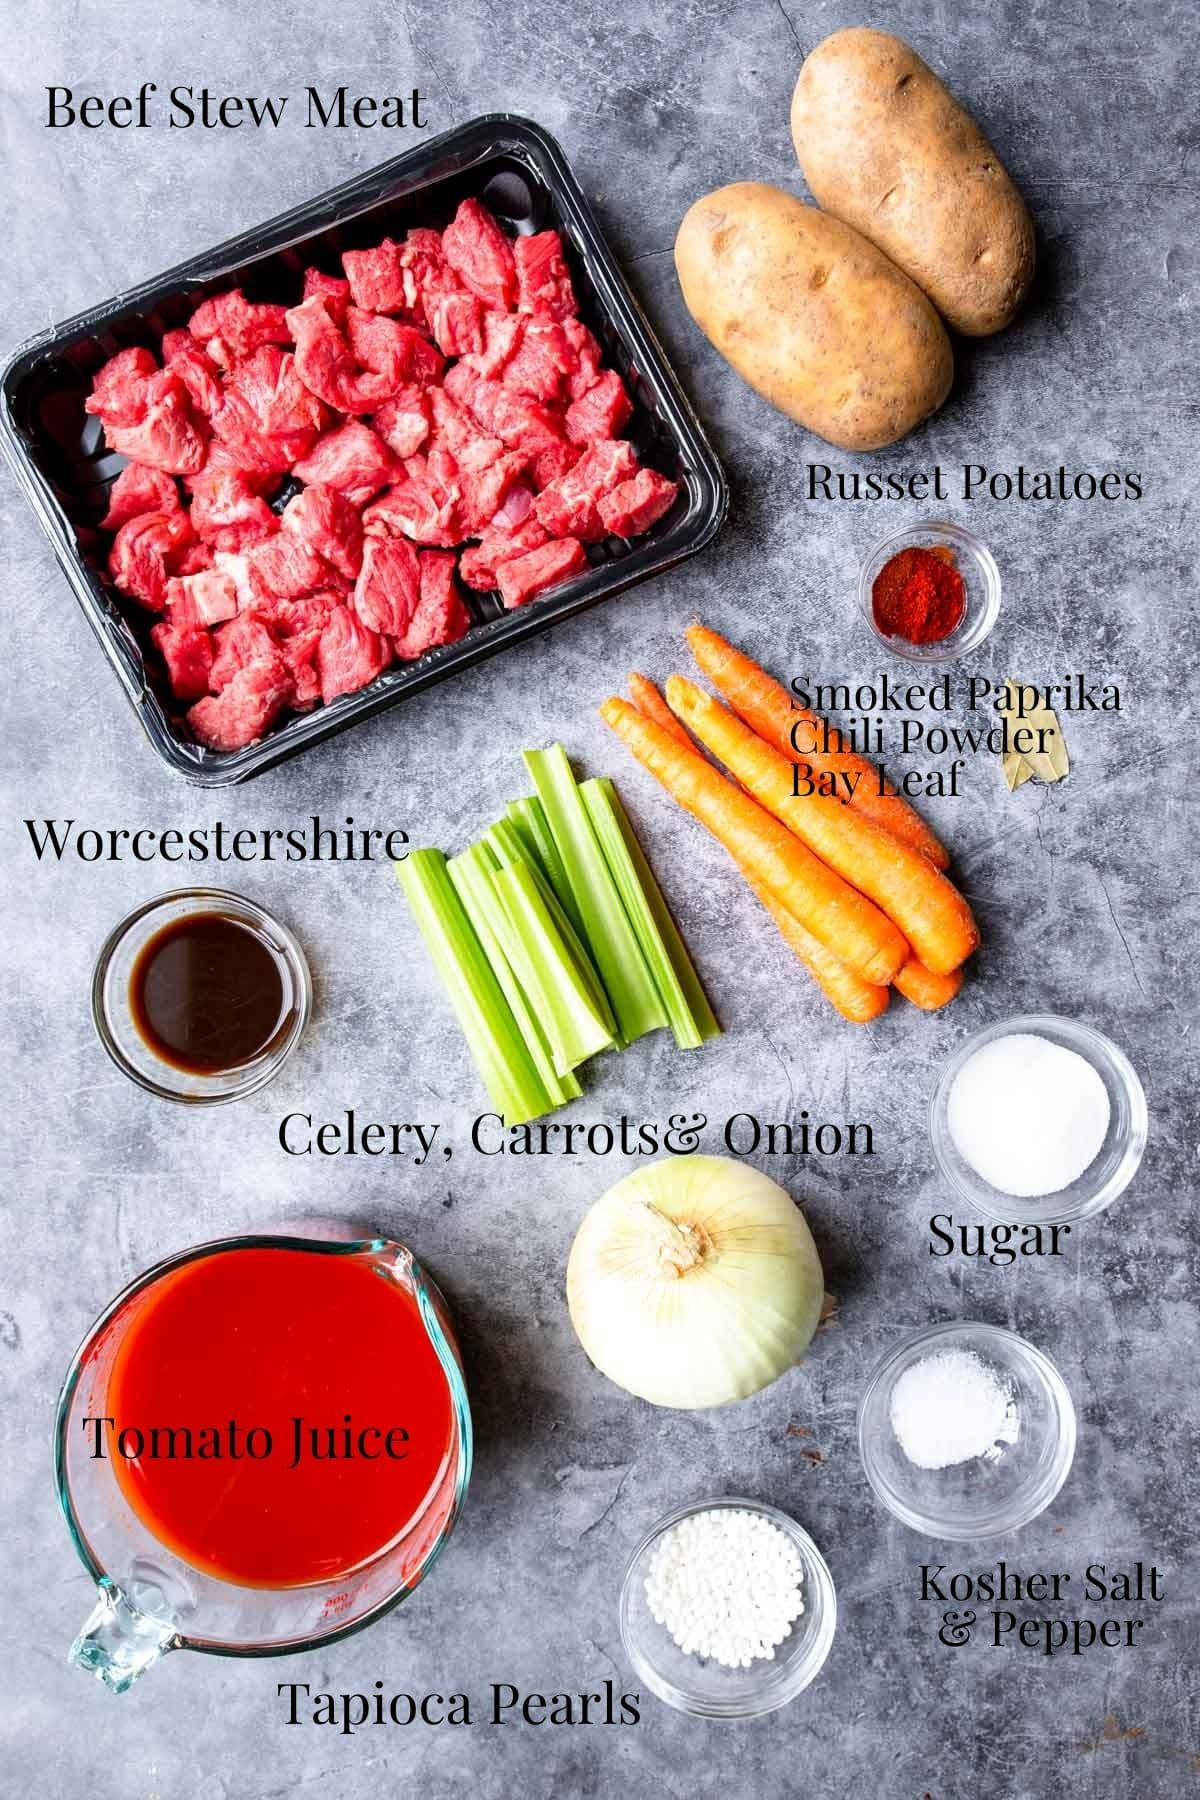Beef: (52, 159, 684, 767)
Carrot: (659, 658, 984, 991), (596, 684, 925, 1000), (675, 609, 955, 879)
Onion: (557, 1146, 842, 1429)
Potato: (771, 8, 1038, 348), (666, 170, 975, 459)
